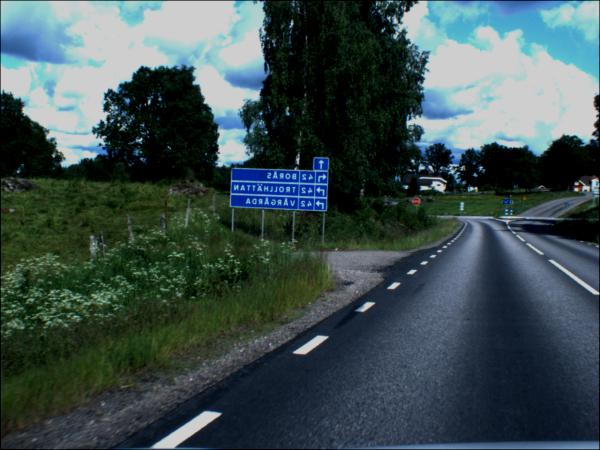PASS_RIGHT_SIDE: (503, 200, 511, 206)
STOP: (413, 198, 421, 207)
